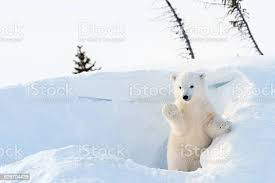PolarBear: (159, 65, 233, 178)
